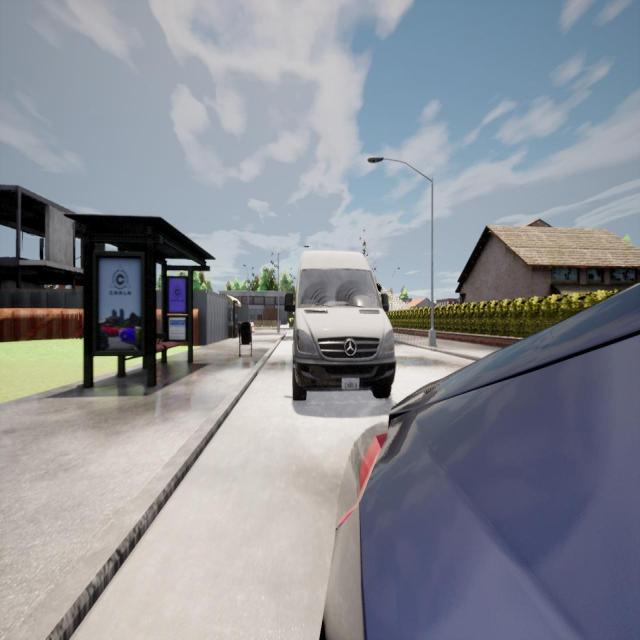Vehicle: (316, 283, 640, 640), (283, 247, 396, 401)
